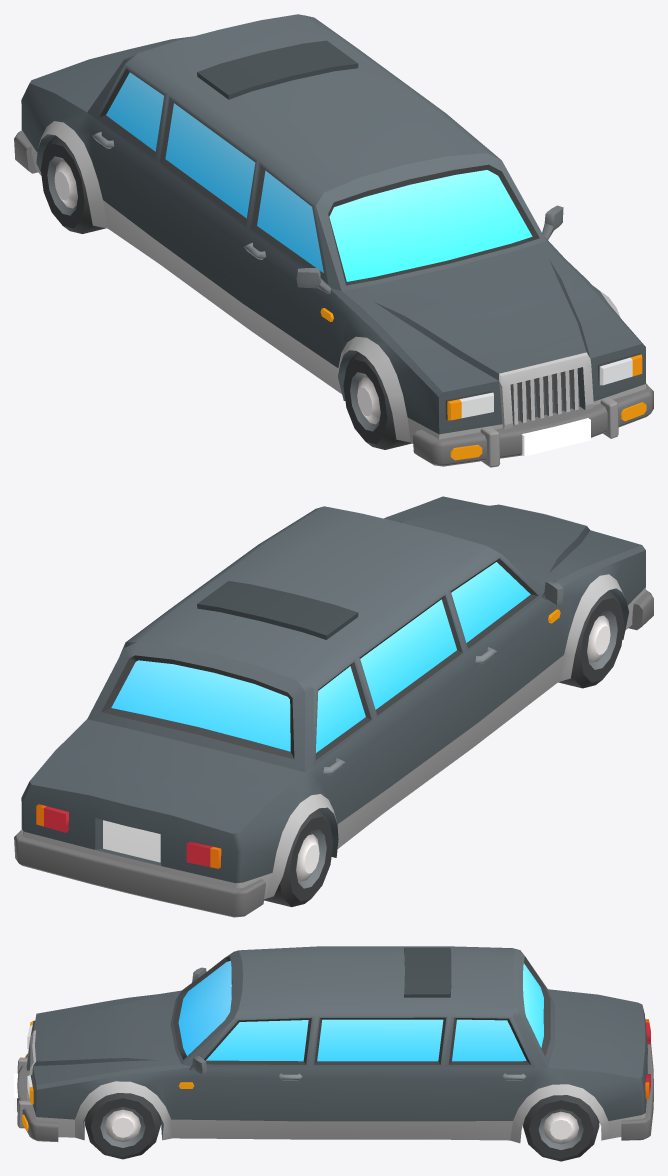
File: Car_43.glb
The picture shows the model from 3 angles, top to bottom: view 1: azimuth 30°, elevation 25°; view 2: azimuth 150°, elevation 25°; view 3: azimuth 270°, elevation 25°; orthographic projection. The views are drawn at different scales.
Parts seen in each view (by area): view 1: Car_43, Wheel_149, Wheel_150; view 2: Car_43, Wheel_150, Wheel_149; view 3: Car_43, Wheel_151, Wheel_152.
Boxes of the visible parts, x1,y1,x2,y2 form: Car_43: (14, 14, 653, 467); Wheel_149: (343, 352, 411, 449); Wheel_150: (40, 135, 105, 233); Car_43: (14, 496, 653, 917); Wheel_150: (264, 809, 333, 907); Wheel_149: (558, 590, 624, 688); Car_43: (14, 946, 653, 1143); Wheel_151: (85, 1093, 160, 1159); Wheel_152: (523, 1095, 599, 1161).
Size of the model in its own units: 2.53 by 1.85 by 7.13.
2 materials, 2 textured.
